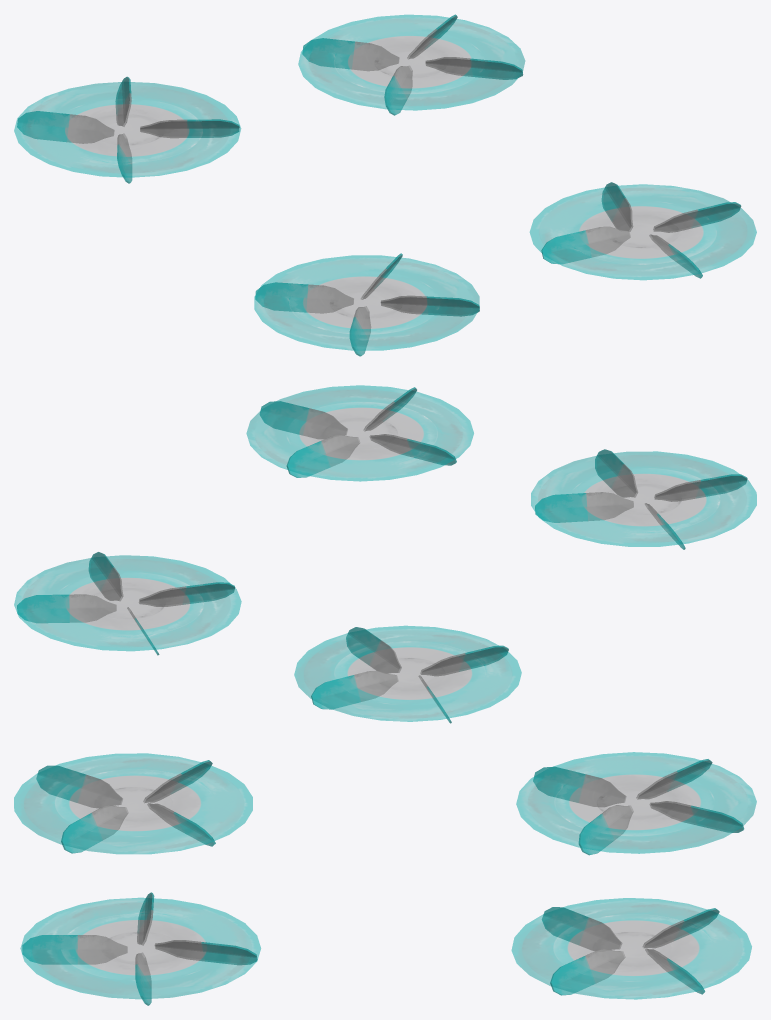
File: BgMD_DronePropeller_01 1.fbx
The picture shows the model from 3 angles, top to bottom: view 1: azimuth 30°, elevation 25°; view 2: azimuth 150°, elevation 25°; view 3: azimuth 270°, elevation 25°; orthographic projection. The views are drawn at different scales.
Visible parts, largest first — view 1: pCube21; view 2: pCube21; view 3: pCube21.
Boxes of the visible parts, x1=… form: pCube21: x1=14, y1=14, x2=756, y2=356; pCube21: x1=14, y1=385, x2=756, y2=723; pCube21: x1=14, y1=752, x2=756, y2=1005.
Bounding box in the file's own units: 57.62 × 2.68 × 73.11.
Materials: 1 (1 with a texture image).
